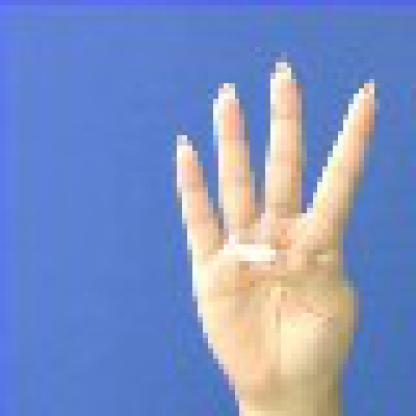four: (151, 31, 395, 411)
